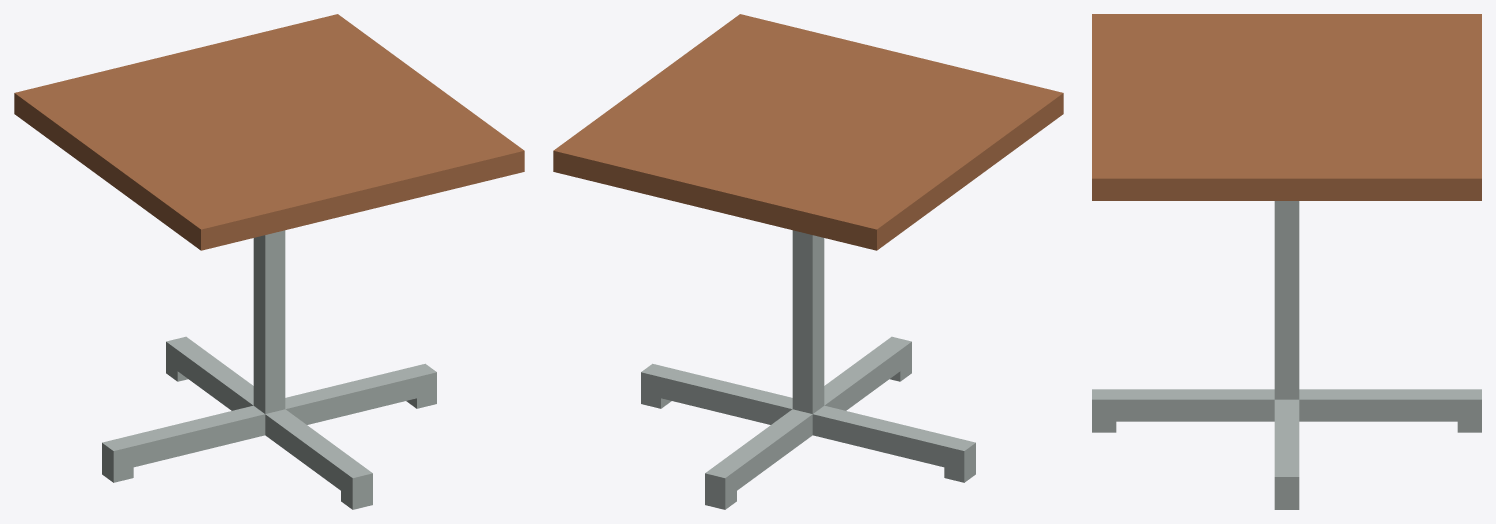
Rendered from table_07.dae.
3 renders of one model, left to right at view 1: azimuth 30°, elevation 25°; view 2: azimuth 150°, elevation 25°; view 3: azimuth 270°, elevation 25°, orthographic. The views are drawn at different scales.
Parts seen in each view (by area): view 1: Untitled; view 2: Untitled; view 3: Untitled.
Part boxes in pixels (x1,y1,x2,y2): Untitled: [14, 14, 524, 509]; Untitled: [553, 14, 1063, 509]; Untitled: [1092, 14, 1481, 509].
Bounding box in the file's own units: 0.96 × 0.96 × 0.9.
1 material, 1 textured.
